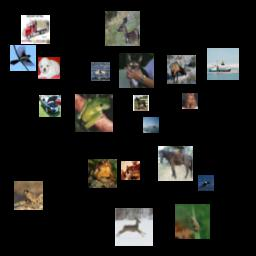airplane: (91, 62, 110, 81)
automobile: (39, 95, 61, 117)
bird: (10, 45, 36, 71), (198, 175, 214, 191)
cat: (119, 53, 154, 88), (121, 161, 140, 180), (182, 93, 198, 109)
deer: (115, 208, 153, 246), (105, 11, 140, 46), (167, 55, 196, 84)
dog: (38, 57, 60, 79)
frog: (75, 94, 113, 132), (175, 204, 210, 239), (14, 181, 43, 210), (88, 159, 117, 188)
ship: (207, 48, 239, 80), (143, 117, 159, 133)
truck: (21, 15, 50, 44)
